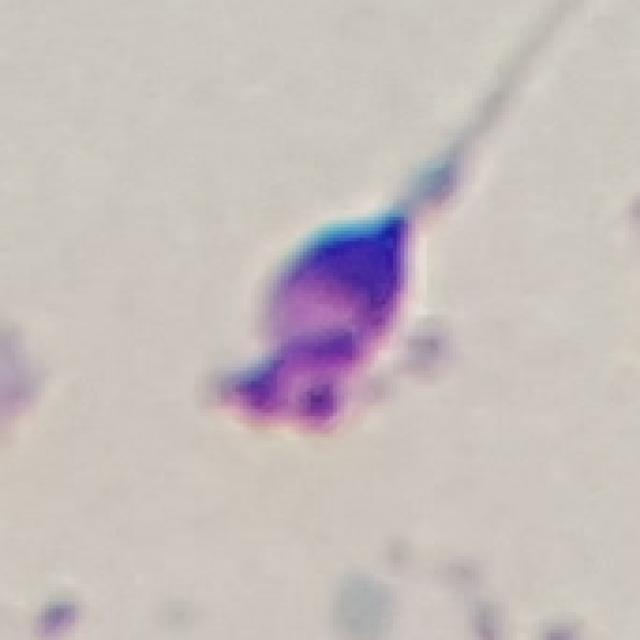normal sperm: (239, 27, 546, 420)
